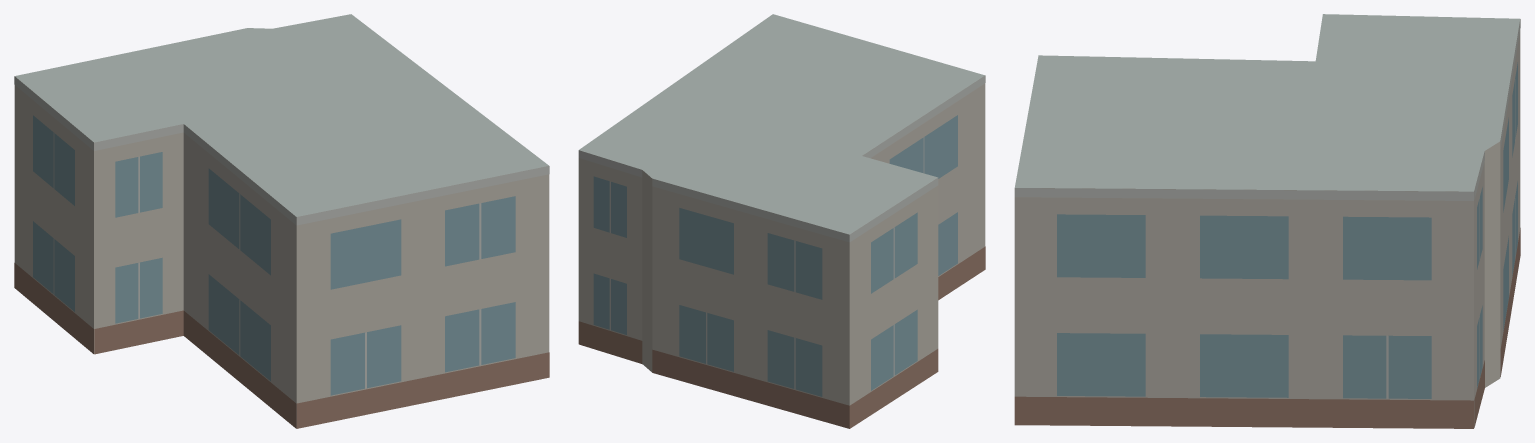
The model's file is survey-upis-32552637.glb.
The picture shows the model from 3 angles, left to right: view 1: azimuth 30°, elevation 25°; view 2: azimuth 150°, elevation 25°; view 3: azimuth 270°, elevation 25°; orthographic projection. The views are drawn at different scales.
Visible parts, largest first — view 1: survey-upis-32552637.tmp; view 2: survey-upis-32552637.tmp; view 3: survey-upis-32552637.tmp.
Part boxes in pixels (box(x1,y1,x2,y2)): survey-upis-32552637.tmp: box(14, 14, 549, 428); survey-upis-32552637.tmp: box(578, 14, 985, 428); survey-upis-32552637.tmp: box(1014, 14, 1520, 428).
Size of the model in its own units: 9.8 by 6.1 by 11.79.
